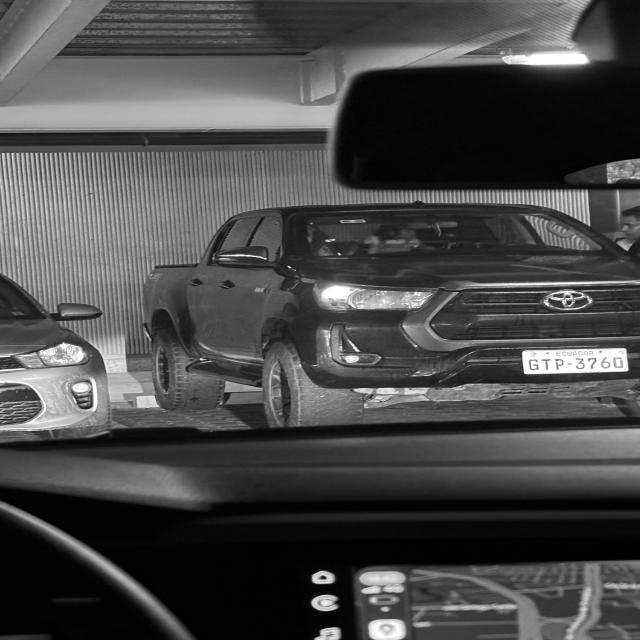Placa: (523, 349, 628, 374)
